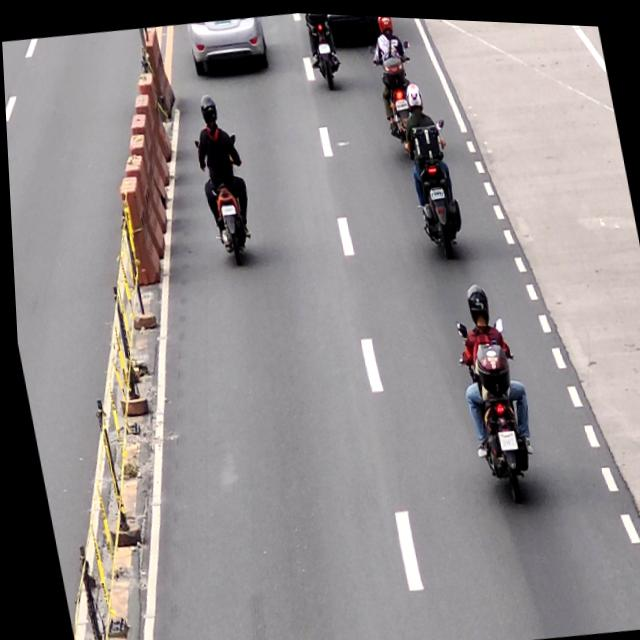Car: (185, 11, 272, 77)
License-Plate: (492, 424, 514, 448), (426, 181, 443, 197), (218, 200, 235, 215), (393, 94, 409, 108), (318, 40, 330, 51)
Motorcycle: (449, 308, 536, 503), (394, 112, 468, 262), (191, 131, 258, 267), (365, 36, 429, 158), (303, 11, 344, 86)
